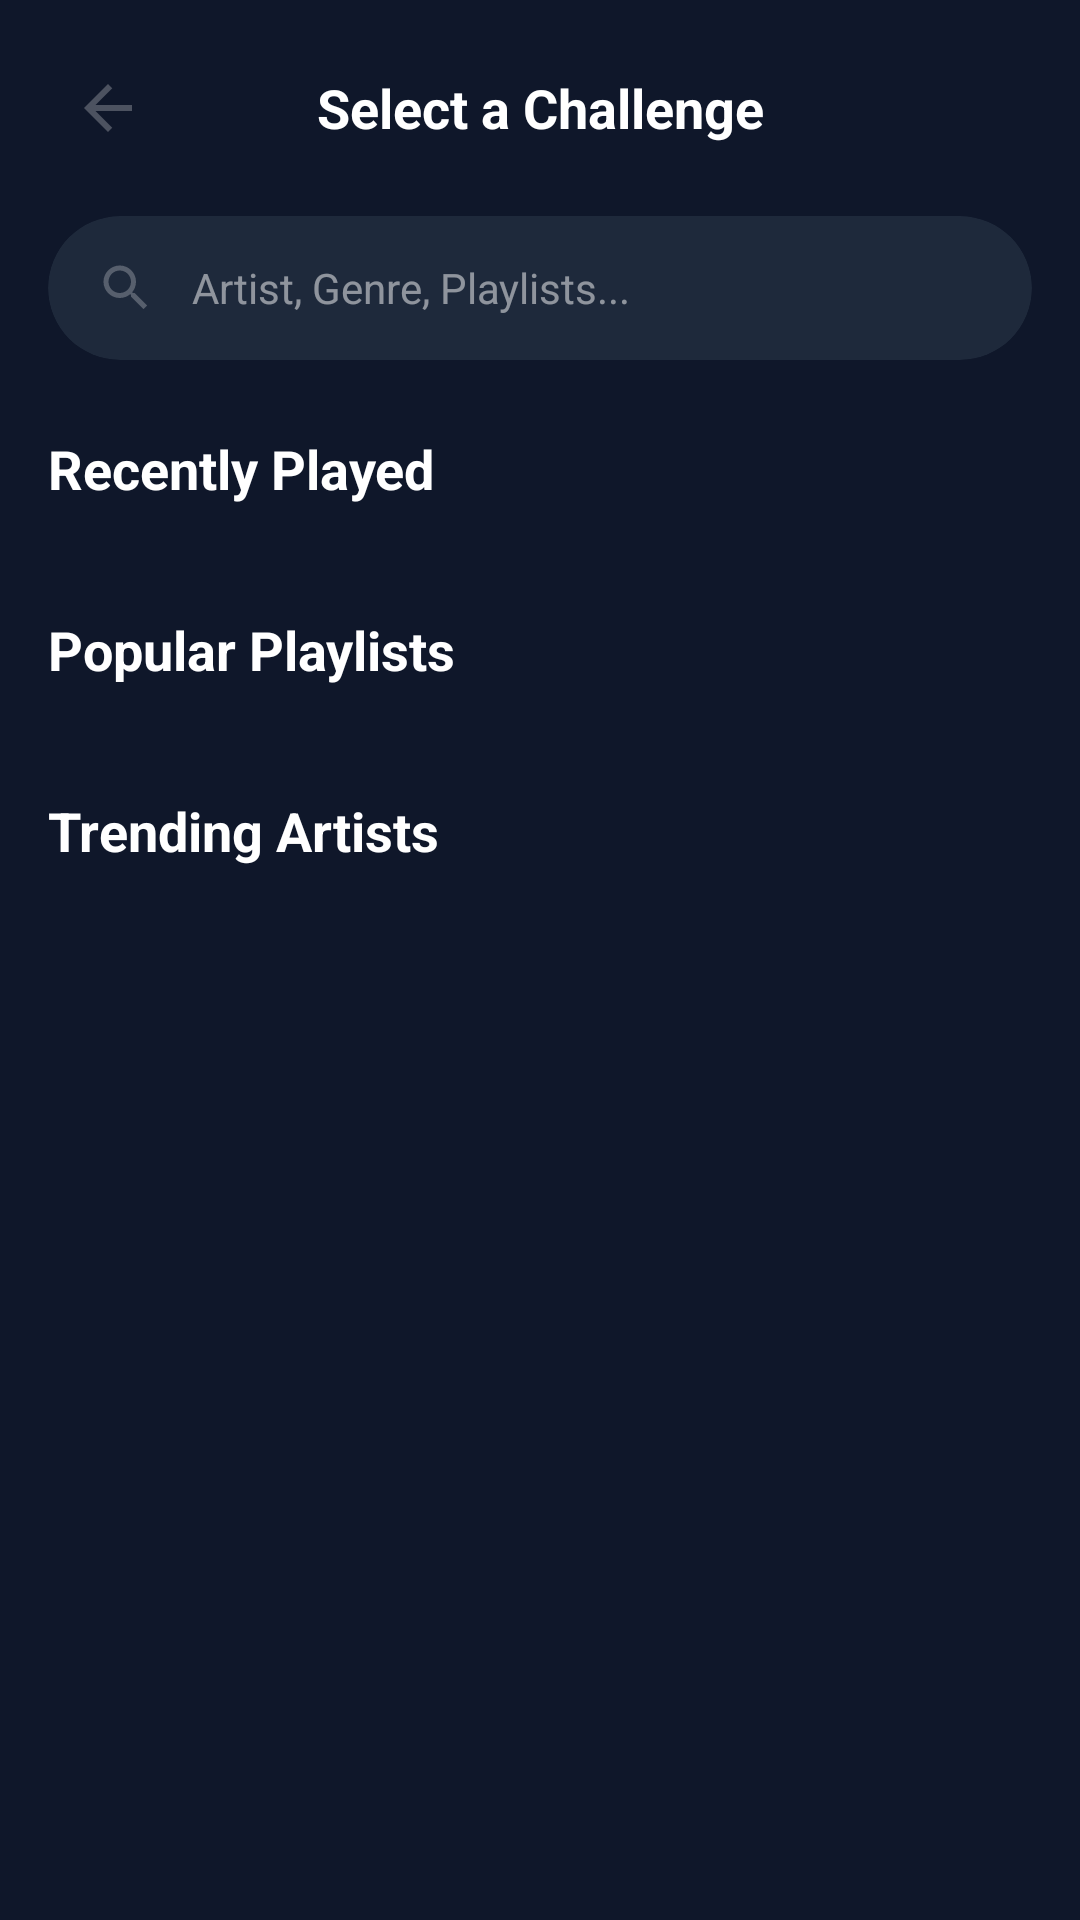

Named icons in this screenshot (1080px×1920px) and their centers, (x,y):
Back: (108,108)
search: (125,287)
